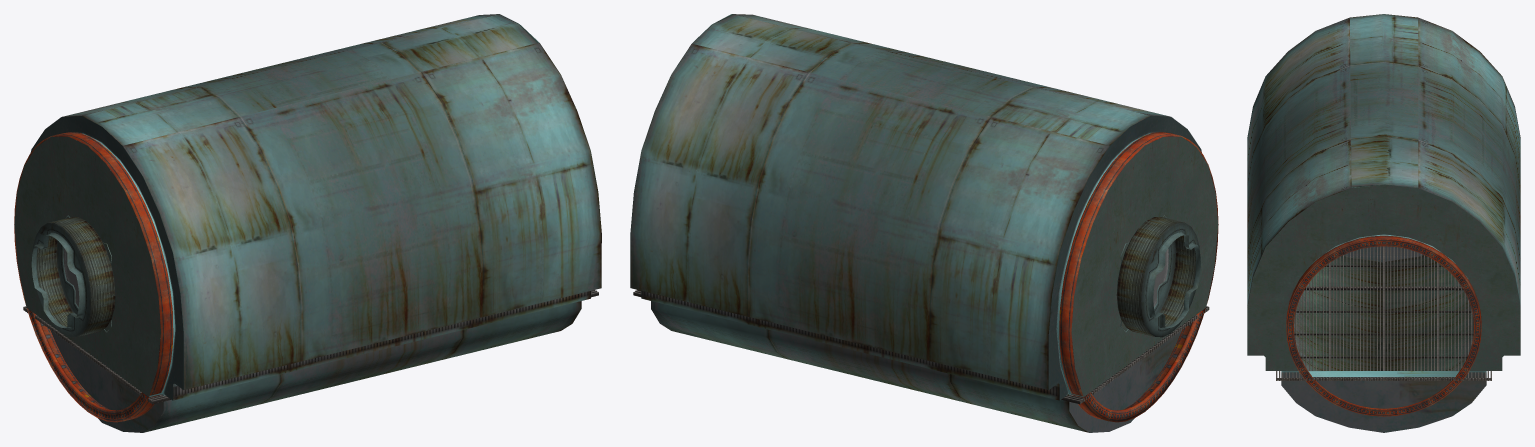
The model's file is tau_tunnel_crewroom.dae.
3 views of the same model, side by side, from view 1: azimuth 30°, elevation 25°; view 2: azimuth 150°, elevation 25°; view 3: azimuth 270°, elevation 25° (orthographic). The views are drawn at different scales.
Parts seen in each view (by area): view 1: polySurface418, polySurface440, polySurface8, pPipe48; view 2: polySurface418, polySurface440, polySurface8, pPipe48; view 3: polySurface418, polySurface440, pPipe71, polySurface441, polySurface445, polySurface443, polySurface446, polySurface448, polySurface449, polySurface417.
Part boxes in pixels (bbox=[...]): polySurface418: bbox=[30, 14, 601, 432]; polySurface440: bbox=[14, 136, 160, 396]; polySurface8: bbox=[31, 215, 115, 337]; pPipe48: bbox=[14, 132, 173, 422]; polySurface418: bbox=[630, 14, 1201, 432]; polySurface440: bbox=[1071, 136, 1218, 396]; polySurface8: bbox=[1116, 215, 1200, 337]; pPipe48: bbox=[1059, 132, 1218, 422]; polySurface418: bbox=[1247, 14, 1520, 432]; polySurface440: bbox=[1247, 184, 1520, 370]; pPipe71: bbox=[1286, 235, 1481, 416]; polySurface441: bbox=[1330, 287, 1383, 380]; polySurface445: bbox=[1384, 287, 1437, 380]; polySurface443: bbox=[1276, 287, 1329, 380]; polySurface446: bbox=[1438, 287, 1491, 380]; polySurface448: bbox=[1384, 246, 1437, 287]; polySurface449: bbox=[1330, 246, 1383, 287]; polySurface417: bbox=[1299, 234, 1468, 376].
Size of the model in its own units: 8.58 by 5.07 by 5.06.
